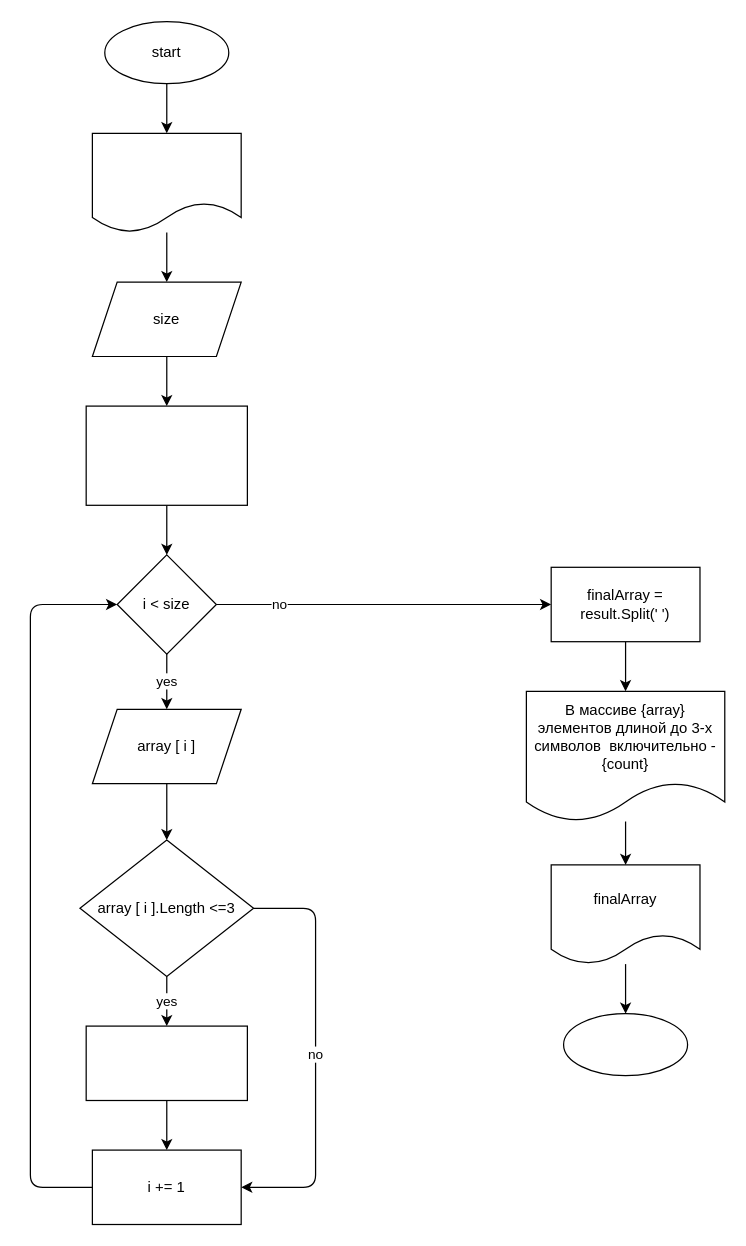
Image size: 746x1246. Some labels were removed from this diagram. Here are the shapes that lost their labels. From the top down, the centre of each, then its label:
point (166, 182): Введите количество элементов массива
point (166, 455): array[ ] count result i = 0
point (166, 1062): count += 1 result += array [ i ] + " "
point (625, 1044): end
